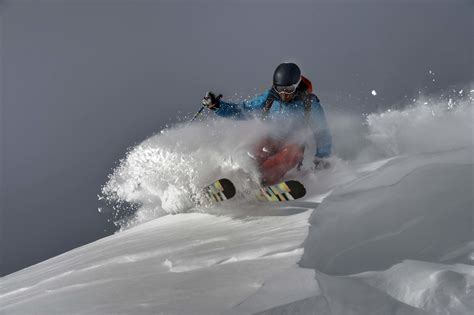skier: (145, 56, 357, 225)
